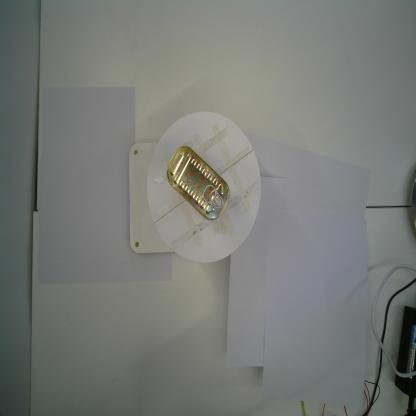Canned Food: (166, 145, 230, 221)
